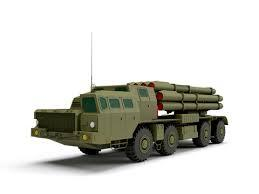MIL_SAM_TEL: (32, 80, 228, 163)
